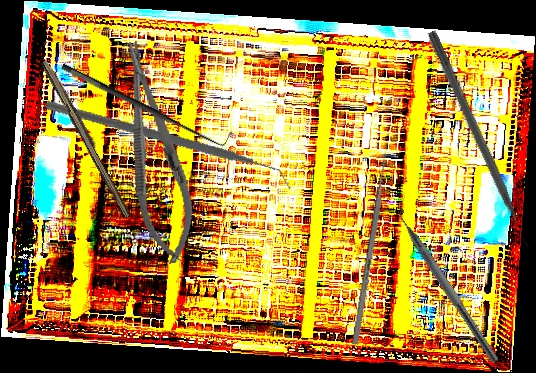Chopper: (43, 42, 293, 251), (386, 194, 510, 365)
Hook Surgical: (59, 50, 232, 154)
Needle Holder: (106, 36, 205, 268)
Pusher: (424, 29, 533, 252), (351, 146, 391, 345)
Scalpel Handle: (38, 58, 136, 219)
